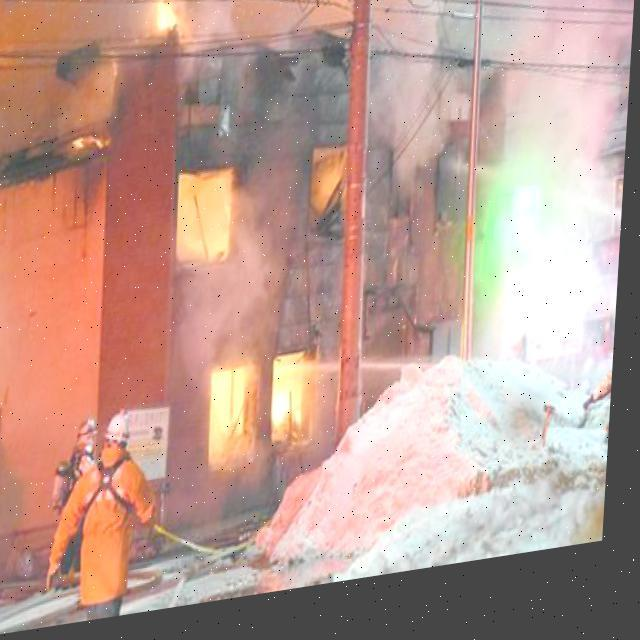Fire: (211, 360, 322, 477), (173, 162, 242, 280), (150, 0, 180, 41)
